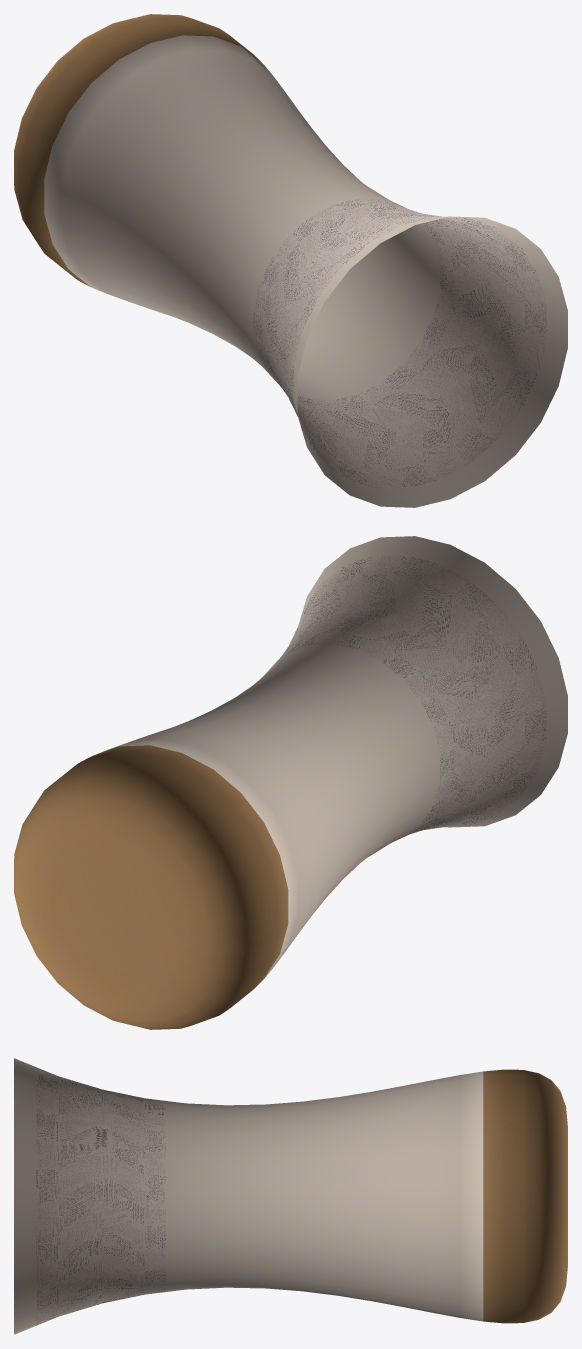
Rendered from model_align.obj.
3 views of the same model, one above another, from view 1: azimuth 30°, elevation 25°; view 2: azimuth 150°, elevation 25°; view 3: azimuth 270°, elevation 25° (orthographic). The views are drawn at different scales.
Parts seen in each view (by area): view 1: mesh1_mesh1-geometry; view 2: mesh1_mesh1-geometry; view 3: mesh1_mesh1-geometry.
Boxes of the visible parts, bbox=[...] form: mesh1_mesh1-geometry: bbox=[14, 14, 567, 507]; mesh1_mesh1-geometry: bbox=[14, 536, 567, 1029]; mesh1_mesh1-geometry: bbox=[14, 1058, 567, 1334].
Size of the model in its own units: 0.0708 by 0.0708 by 0.1428.
